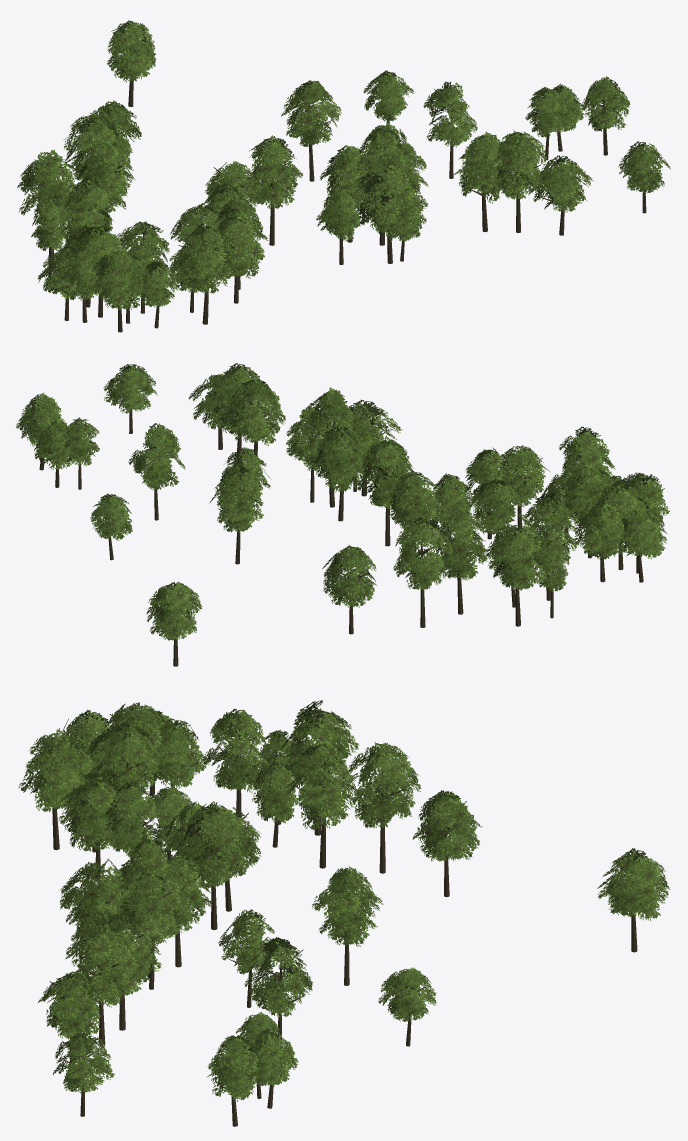
The model's file is TRB8-FOREST-CHUNK-3-3.glb.
3 views of the same model, one above another, from view 1: azimuth 30°, elevation 25°; view 2: azimuth 150°, elevation 25°; view 3: azimuth 270°, elevation 25° (orthographic). The views are drawn at different scales.
Parts seen in each view (by area): view 1: TRB8-FOREST-CHUNK-3-3; view 2: TRB8-FOREST-CHUNK-3-3; view 3: TRB8-FOREST-CHUNK-3-3.
Boxes of the visible parts, left/top/right/bottom form: TRB8-FOREST-CHUNK-3-3: left=17, top=20, right=670, bottom=332; TRB8-FOREST-CHUNK-3-3: left=16, top=363, right=669, bottom=666; TRB8-FOREST-CHUNK-3-3: left=18, top=700, right=670, bottom=1126.
Size of the model in its own units: 35.02 by 6.72 by 27.16.
Materials: 2 (1 with a texture image).
